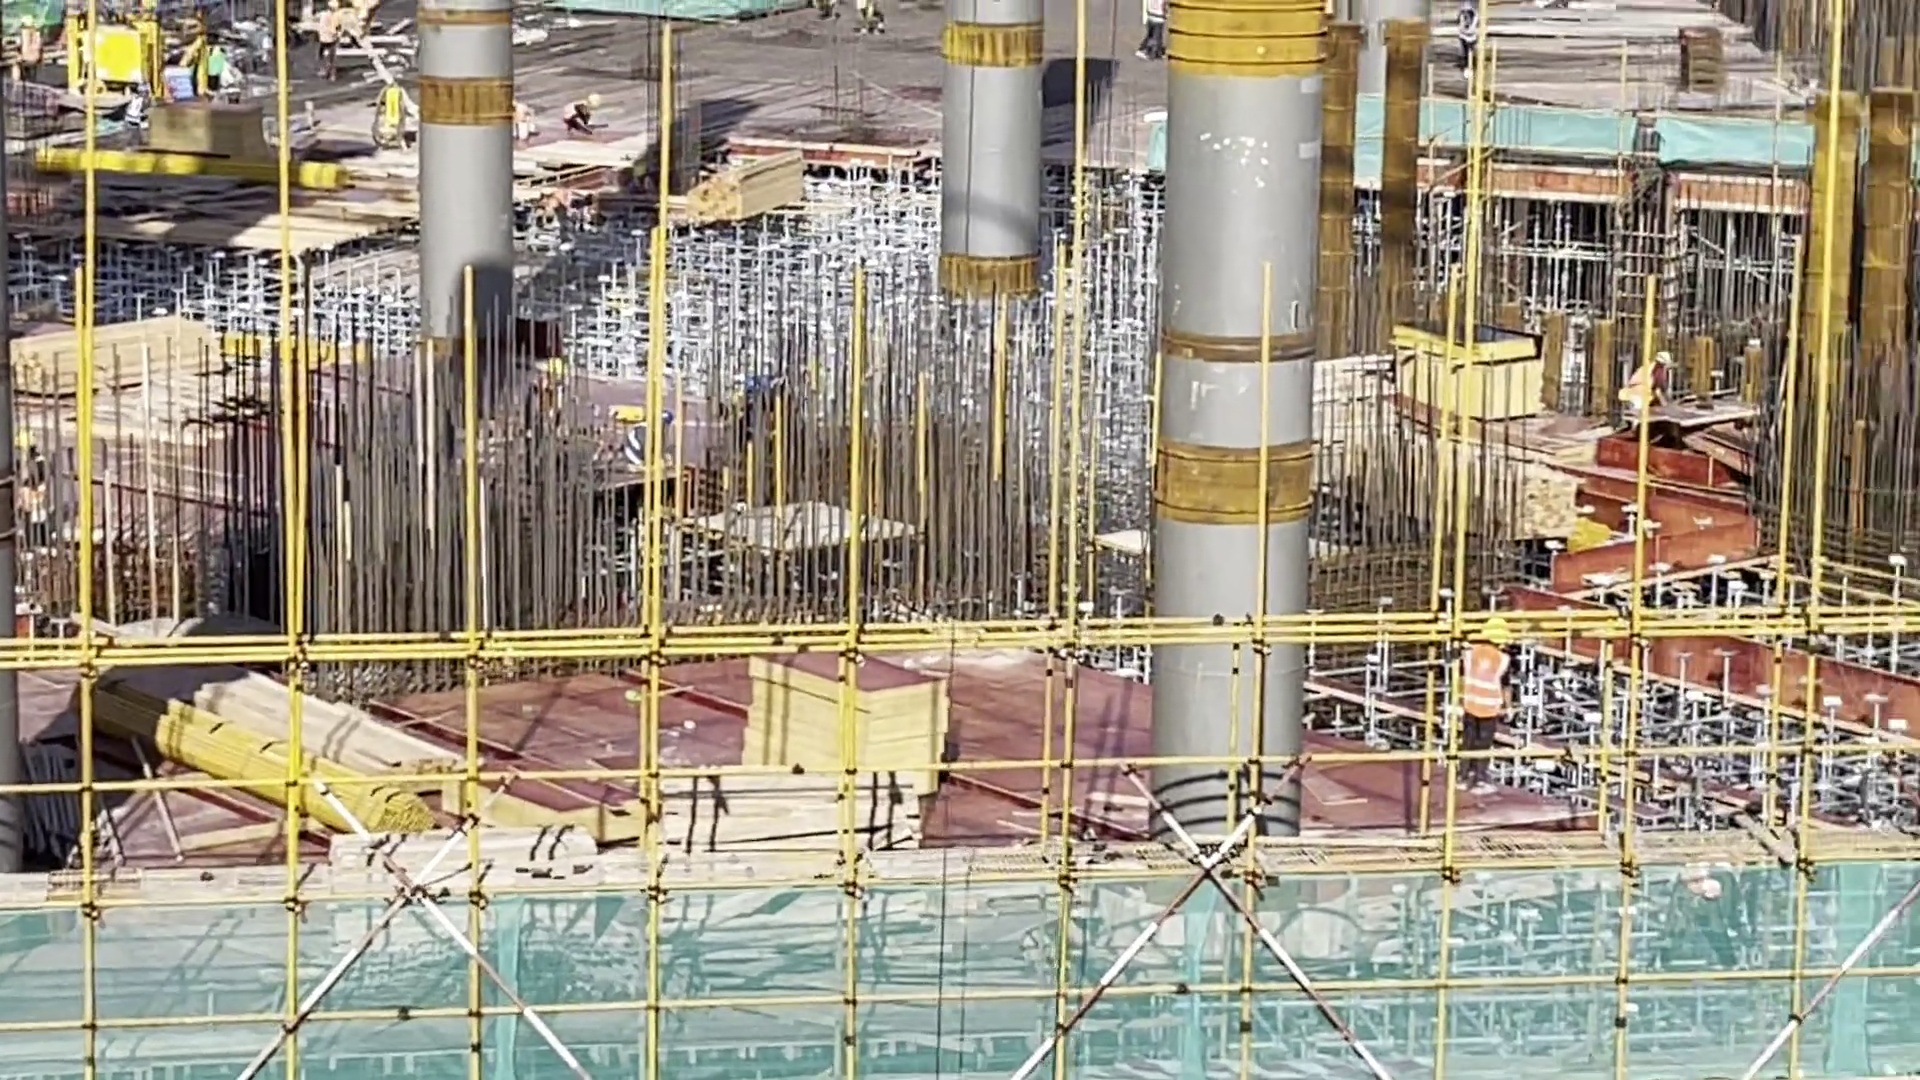helmet: (536, 381, 566, 441), (548, 355, 573, 377), (19, 427, 40, 451), (1654, 349, 1671, 368), (1478, 614, 1504, 627), (665, 407, 677, 428), (591, 90, 600, 112), (329, 1, 341, 16), (394, 70, 408, 84), (135, 86, 148, 99), (743, 378, 754, 392), (1459, 1, 1470, 13), (856, 1, 864, 10)
person: (1436, 625, 1521, 786), (514, 350, 581, 473), (726, 370, 812, 458), (14, 418, 50, 551), (614, 386, 671, 466), (376, 73, 417, 157), (1626, 345, 1674, 416), (312, 1, 347, 75), (1459, 1, 1490, 74), (1122, 1, 1158, 63), (566, 90, 599, 133), (862, 1, 891, 38), (127, 85, 145, 133)
vest: (739, 361, 793, 449), (1469, 649, 1509, 714), (381, 86, 419, 132), (618, 412, 656, 454), (17, 471, 44, 521), (1631, 357, 1661, 399), (319, 7, 341, 46), (1464, 6, 1479, 45), (1144, 1, 1160, 24), (865, 5, 885, 21), (134, 91, 143, 119)
